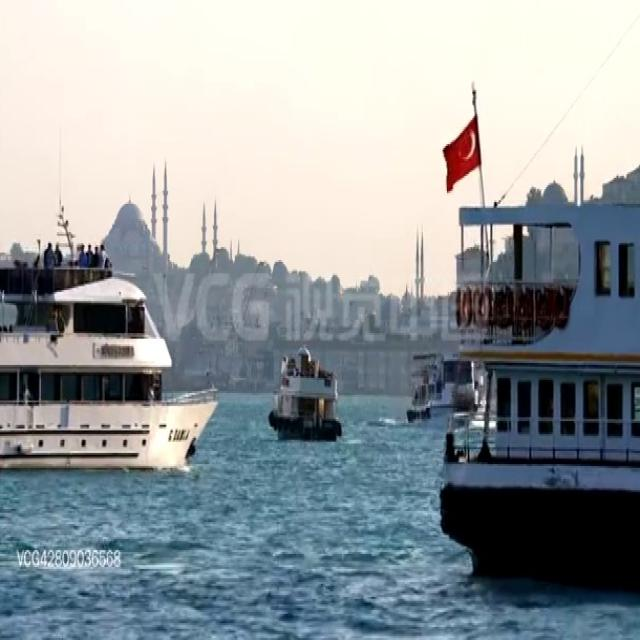houseboat: (264, 338, 341, 443)
passenger ship: (445, 178, 640, 576), (0, 232, 214, 475), (404, 336, 476, 430)
